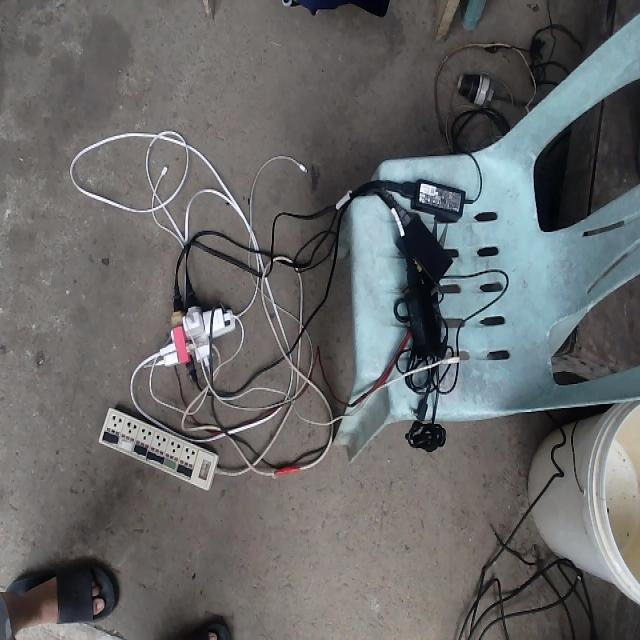-: (154, 300, 233, 365)
